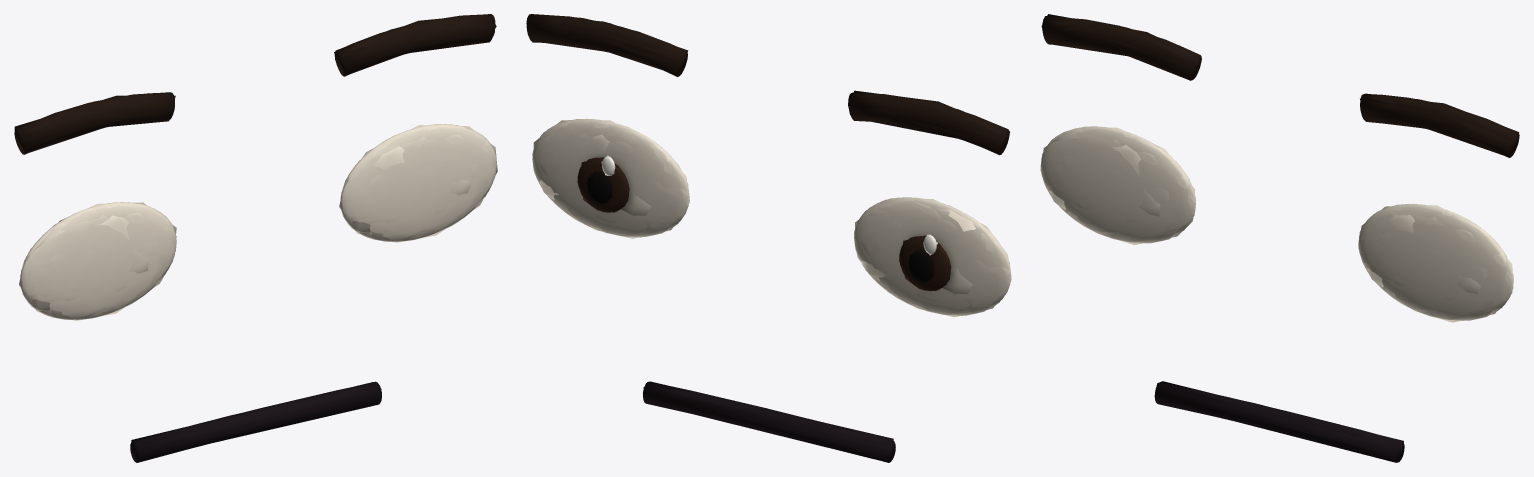
File: unimpressed.glb
3 renders of one model, left to right at view 1: azimuth 30°, elevation 25°; view 2: azimuth 150°, elevation 25°; view 3: azimuth 330°, elevation 25°, orthographic.
Visible parts, largest first — view 1: near, mid, far; view 2: near, mid, far; view 3: near, mid, far.
Part boxes in pixels (<box>): near: <box>14,14,496,462</box>; mid: <box>14,14,496,462</box>; far: <box>14,14,497,458</box>; near: <box>526,14,1011,462</box>; mid: <box>526,15,1011,462</box>; far: <box>527,18,1011,458</box>; near: <box>1040,17,1519,462</box>; mid: <box>1040,16,1519,460</box>; far: <box>1041,14,1518,462</box>.
Bounding box in the file's own units: 0.6712 × 0.4981 × 0.0541.
Materials: 6 (6 with a texture image).
